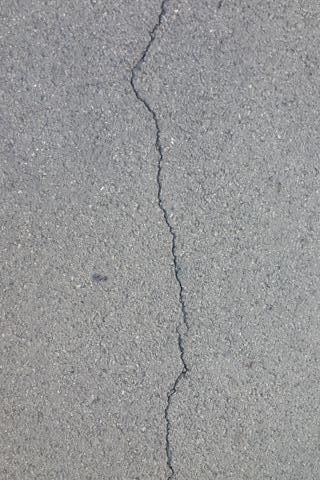A: (123, 1, 194, 480)
